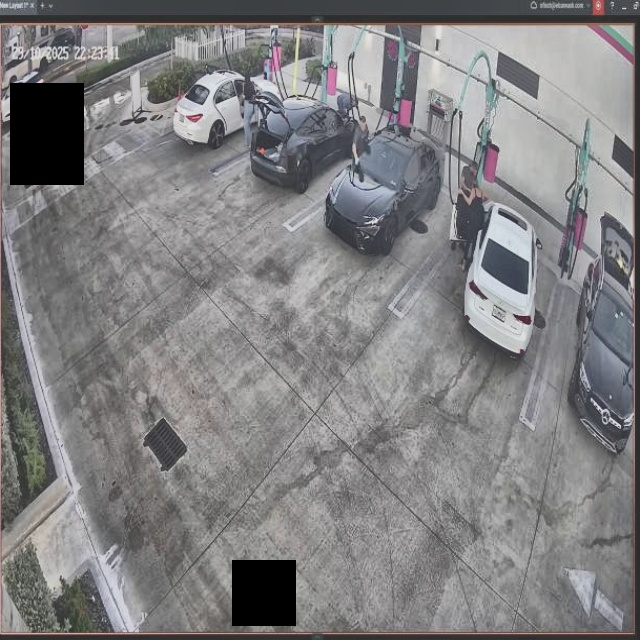Car: (449, 170, 542, 358), (326, 114, 447, 257), (251, 89, 370, 195), (174, 68, 280, 157)
